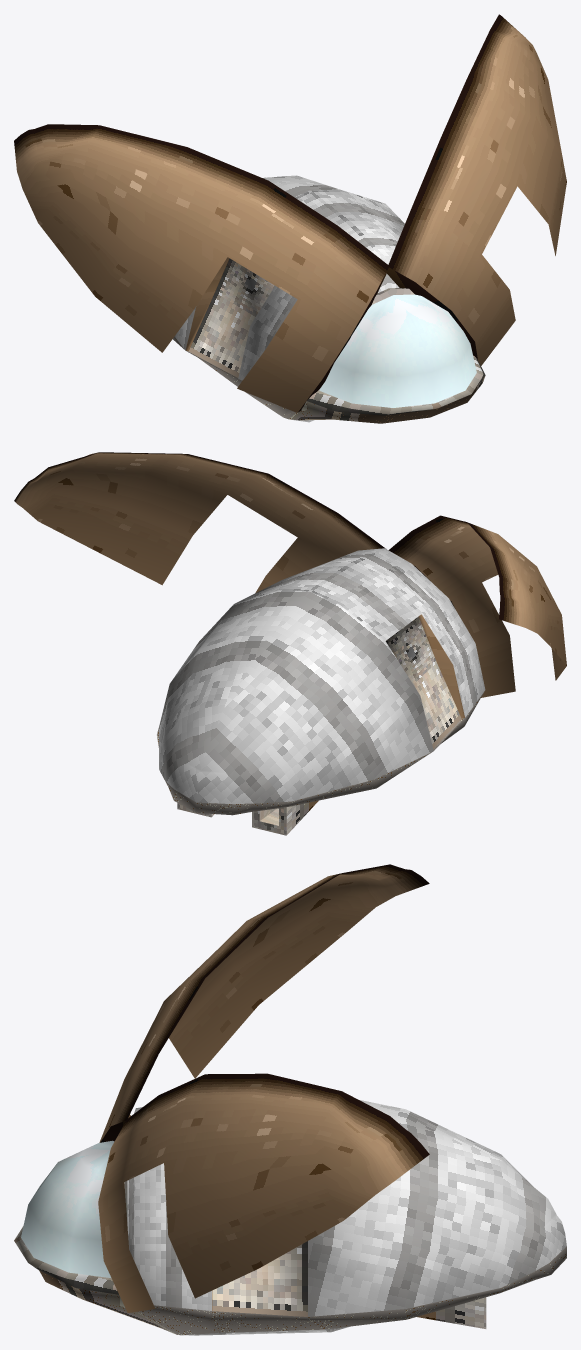
The model's file is BeetleShipFlying.fbx.
3 renders of one model, top to bottom at view 1: azimuth 30°, elevation 25°; view 2: azimuth 150°, elevation 25°; view 3: azimuth 270°, elevation 25°, orthographic. The views are drawn at different scales.
Visible parts, largest first — view 1: main; view 2: main; view 3: main.
Boxes of the visible parts, x1,y1,x2,y2 form: main: [14, 14, 566, 423]; main: [14, 452, 566, 835]; main: [14, 864, 566, 1335].
Bounding box in the file's own units: 711 × 578 × 372.
1 material, 1 textured.
